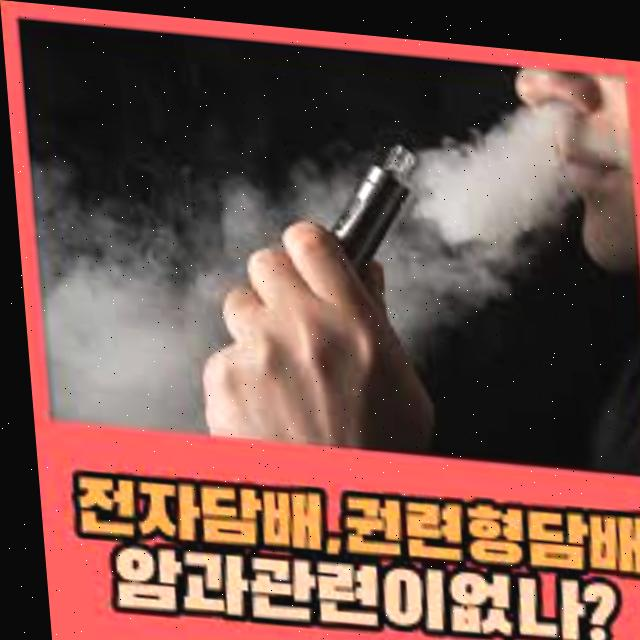vape: (323, 126, 423, 263)
